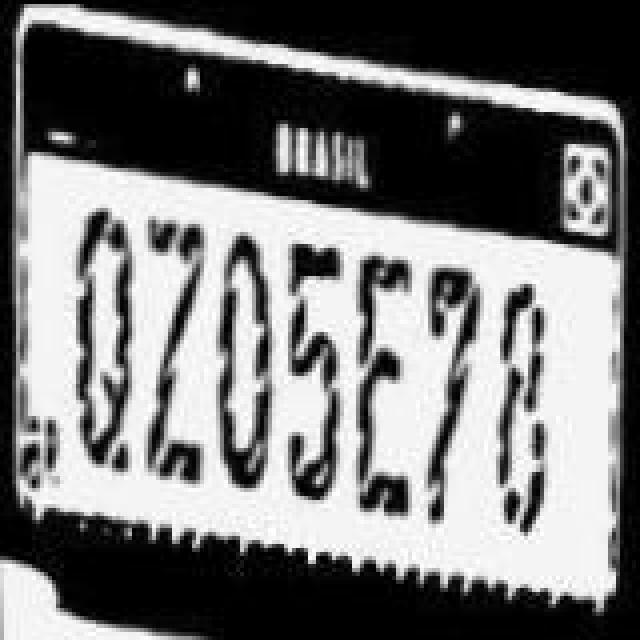5: (284, 240, 344, 504)
7: (424, 264, 488, 520)
8: (498, 276, 558, 536)
E: (352, 244, 416, 520)
O: (214, 232, 278, 496)
Q: (70, 202, 134, 474)
Z: (138, 212, 210, 484)
